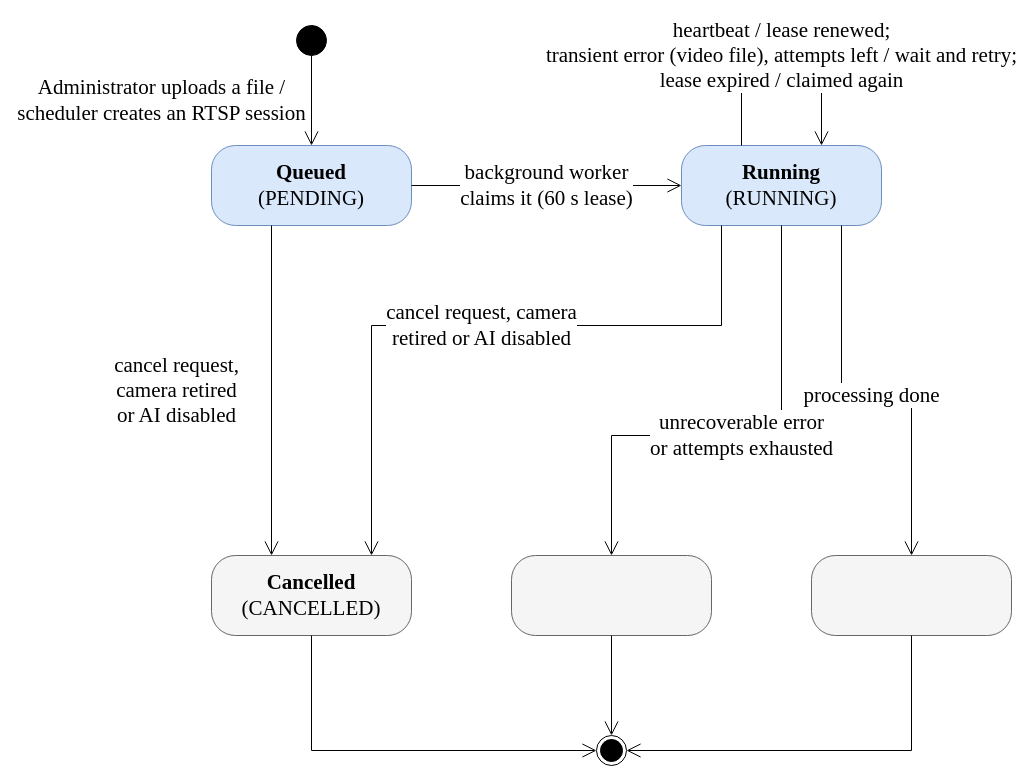
Image size: 1034x783. Some labels were removed from this diagram. Here are the shapes that lost their labels. From the top down, the centre of each, then its label:
At (611,595): "Failed (FAILED)".
At (911,595): "Succeeded (SUCCEEDED)".
